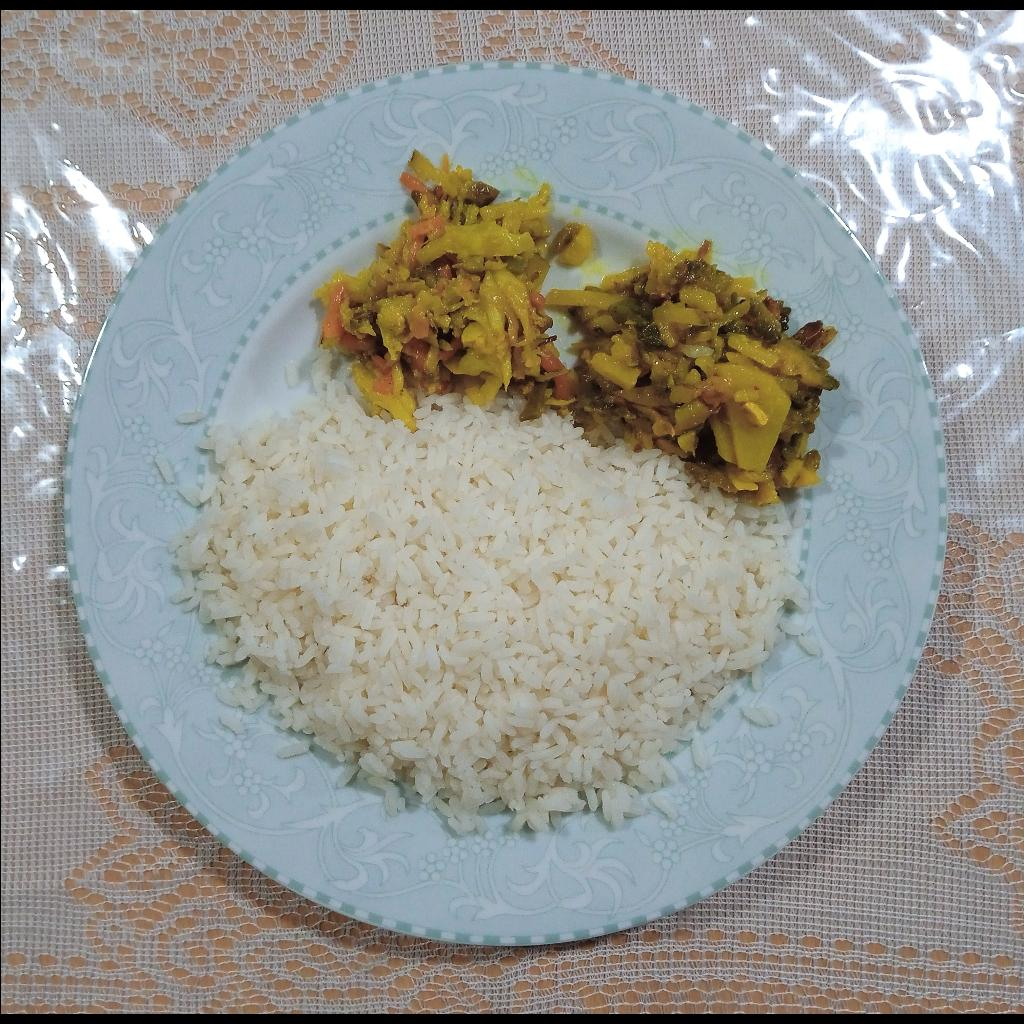rice: (178, 380, 802, 839)
vegetable: (556, 233, 843, 507), (321, 155, 588, 422)
